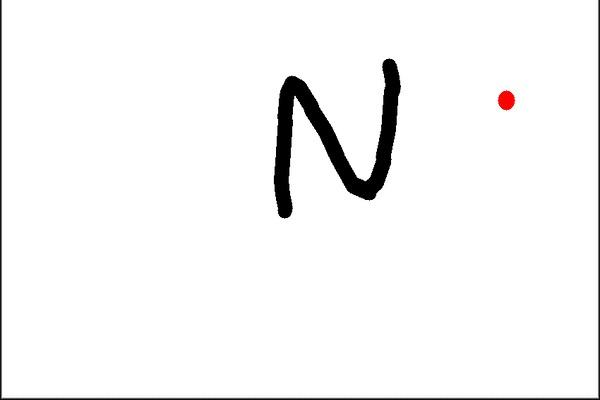N: (268, 53, 405, 226)
